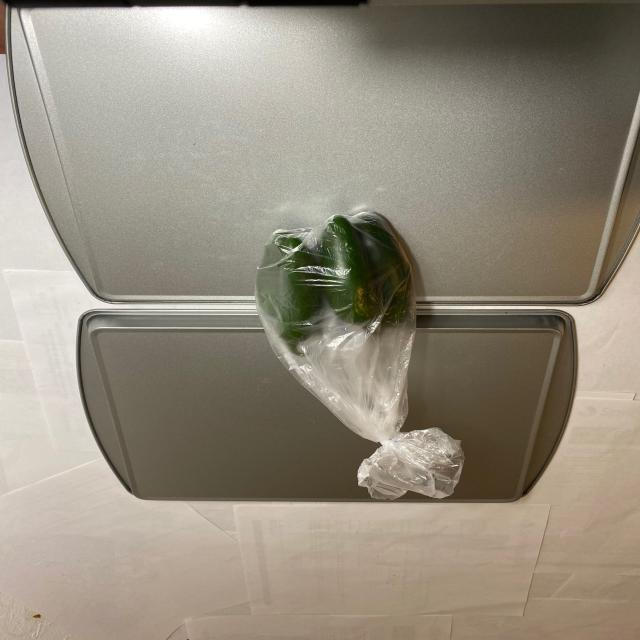chilli: (249, 206, 423, 356)
